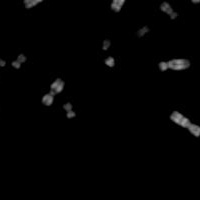chromosome: (170, 111, 200, 136), (43, 78, 65, 106), (158, 58, 189, 70), (161, 2, 177, 18), (24, 0, 51, 8), (12, 54, 26, 69), (64, 103, 77, 117), (112, 0, 128, 11), (136, 25, 148, 38), (105, 57, 115, 67), (102, 40, 109, 50), (0, 58, 5, 67), (192, 0, 200, 4)
